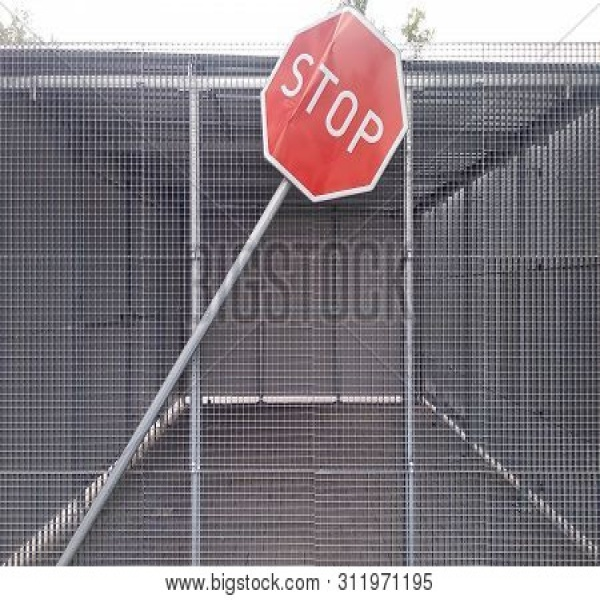stop: (255, 9, 410, 203)
